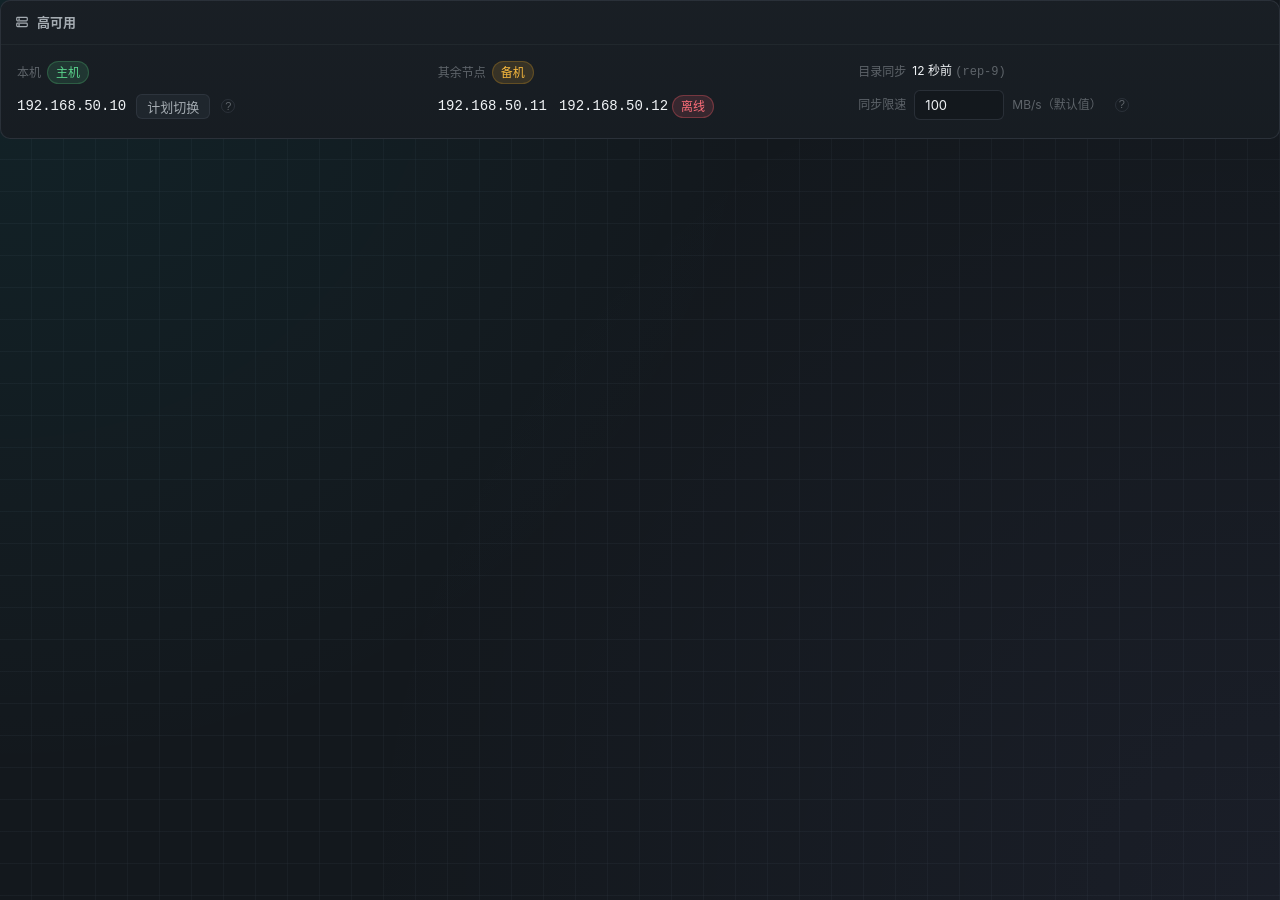
Test case: HACard › 主机：本机显示 IP，不显示 epoch 和节点 ID，说明默认收起
Expected: the element with test id "ha-self" shows "192.168.50.10", [17,98,126,114]
Expected: the text "主机" is shown, [47,61,89,84]
Click the button named "计划切换说明": (228, 106) [221,99,235,113]
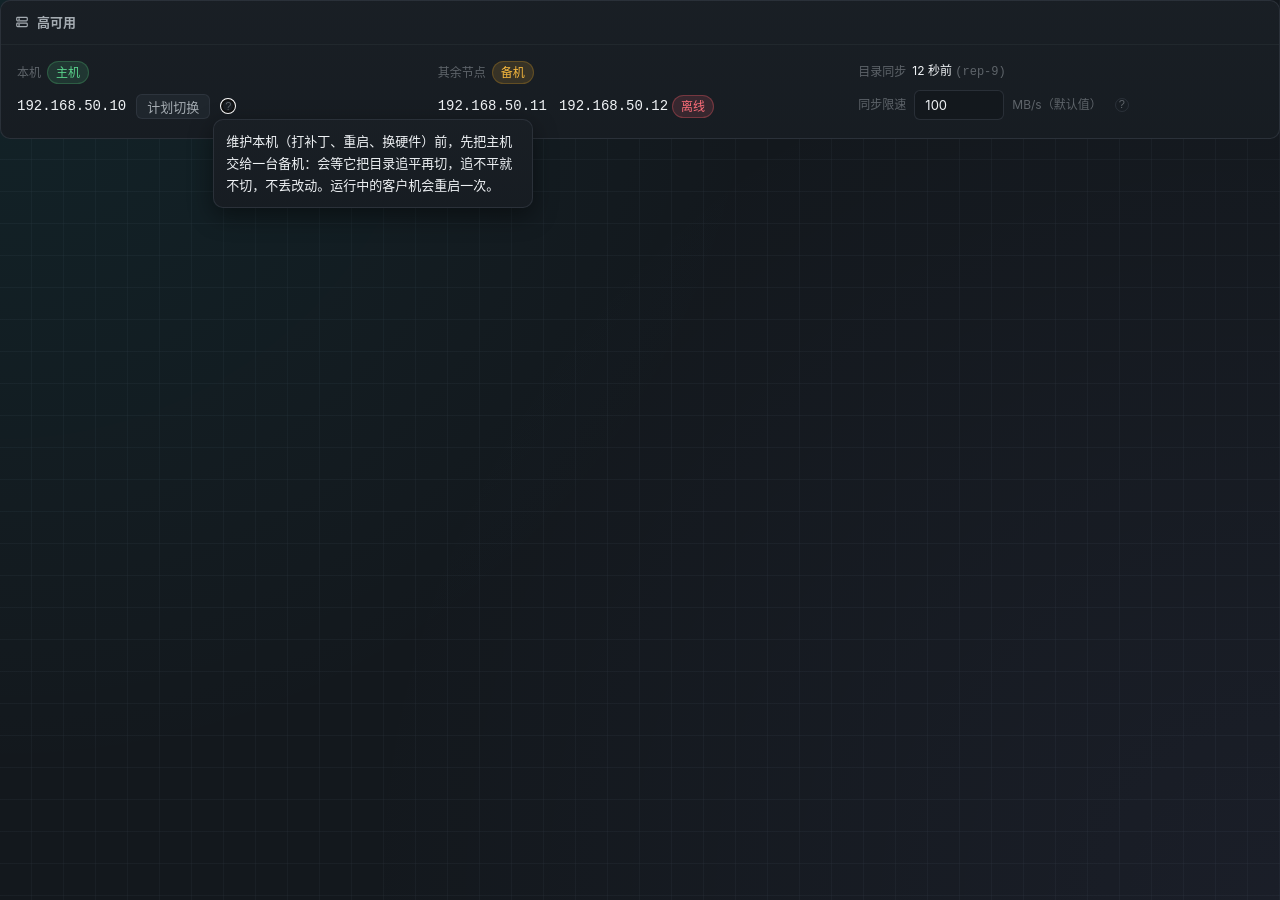
Result: the text "交给一台备机" is shown at [226,133,512,193]
